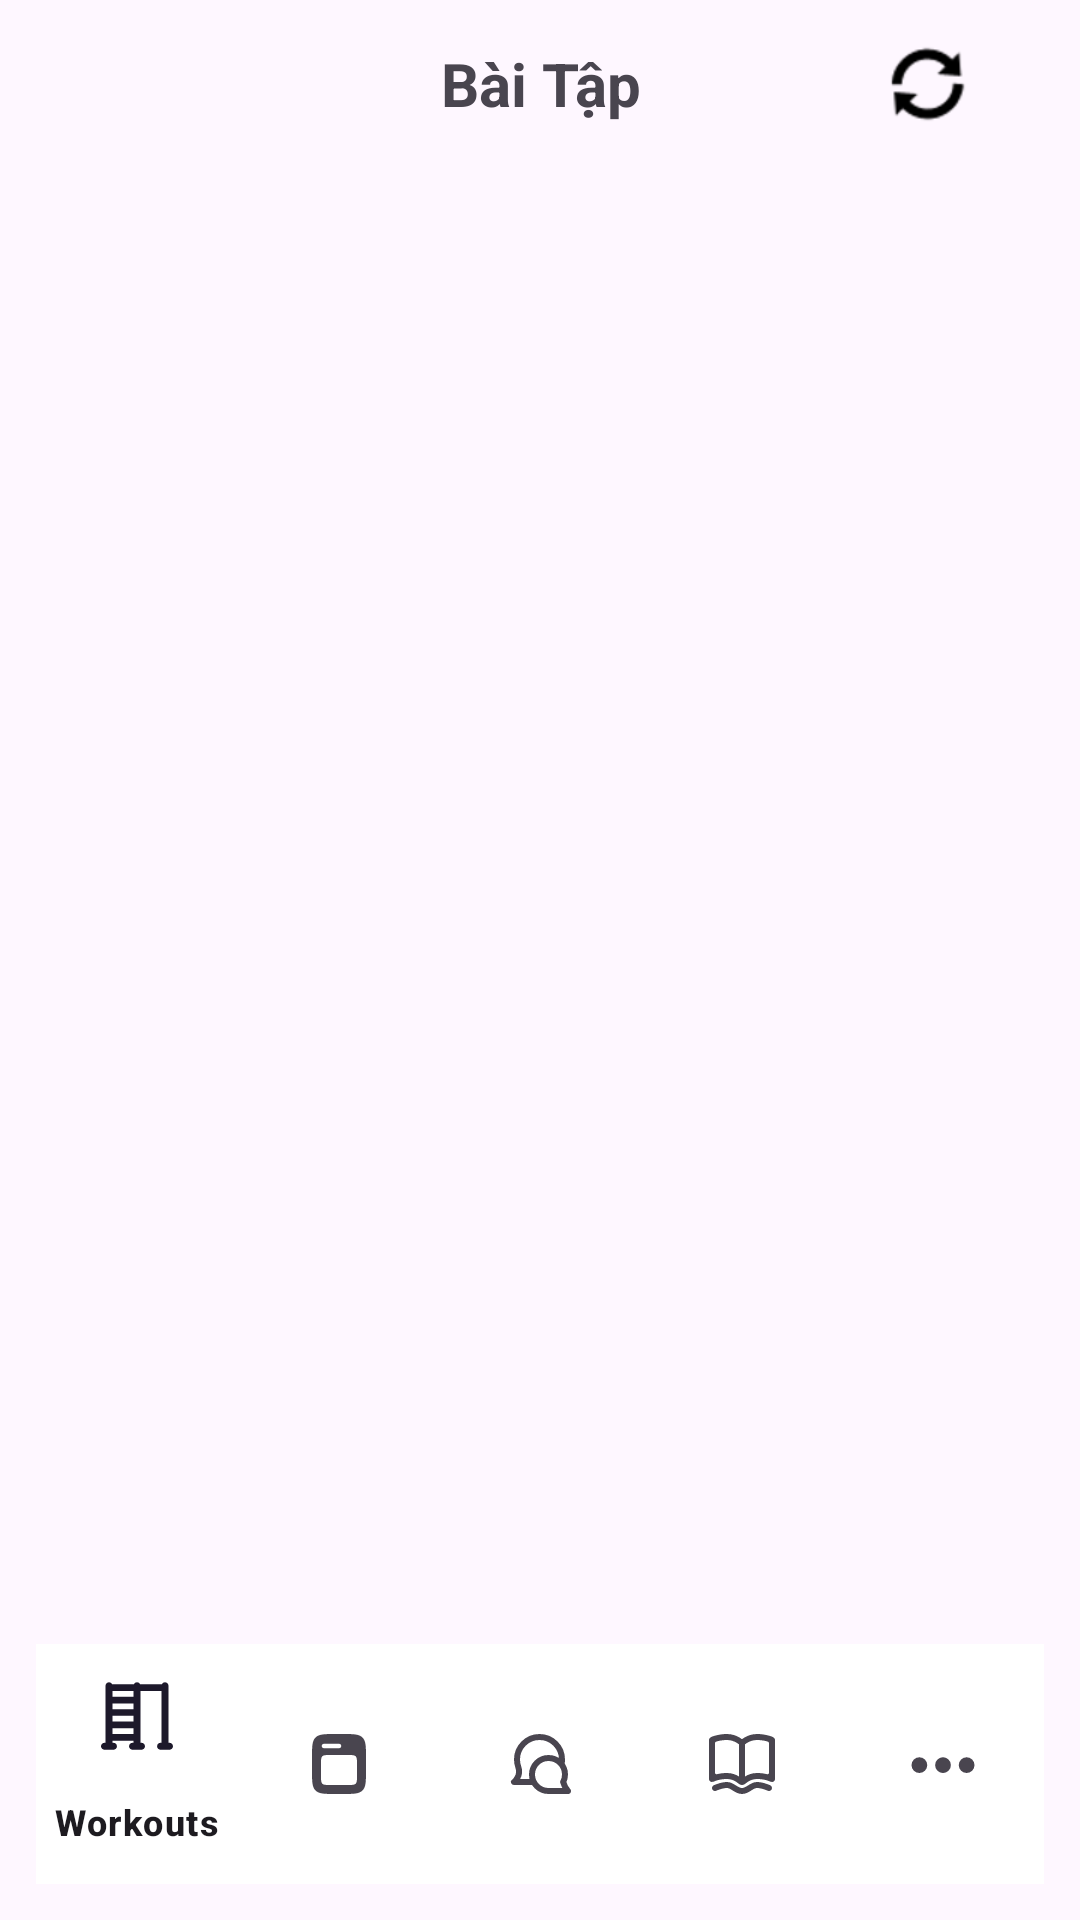

Icons on this 1080 x 1920 Android screen, each with its box as {"left": x1, "top": y1, "right": x2, "bottom": y2}:
Tải lại: {"left": 891, "top": 48, "right": 965, "bottom": 120}
